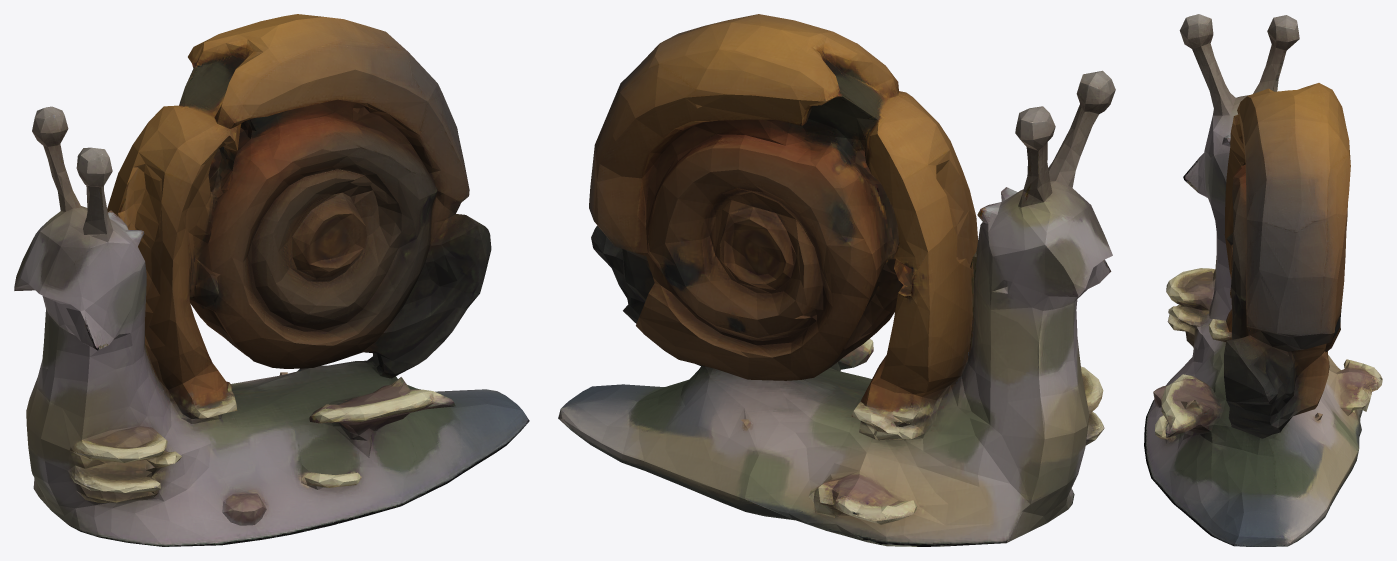
The model's file is Zombie_Snail_Man.glb.
3 views of the same model, side by side, from view 1: azimuth 30°, elevation 25°; view 2: azimuth 150°, elevation 25°; view 3: azimuth 270°, elevation 25° (orthographic). The views are drawn at different scales.
Visible parts, largest first — view 1: world; view 2: world; view 3: world.
Part boxes in pixels (x1,y1,x2,y2): world: (14, 14, 529, 546); world: (558, 14, 1115, 546); world: (1144, 14, 1382, 546).
Size of the model in its own units: 0.5203 by 0.4363 by 0.2554.
Materials: 1 (1 with a texture image).
